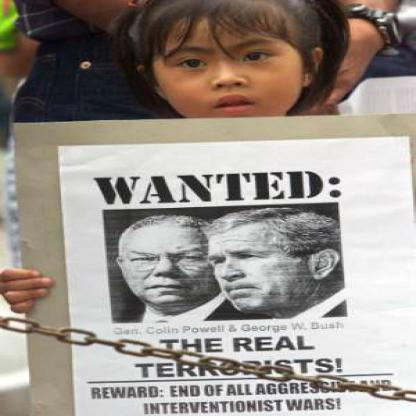face: (150, 1, 307, 133), (206, 210, 316, 316), (118, 217, 225, 307)
